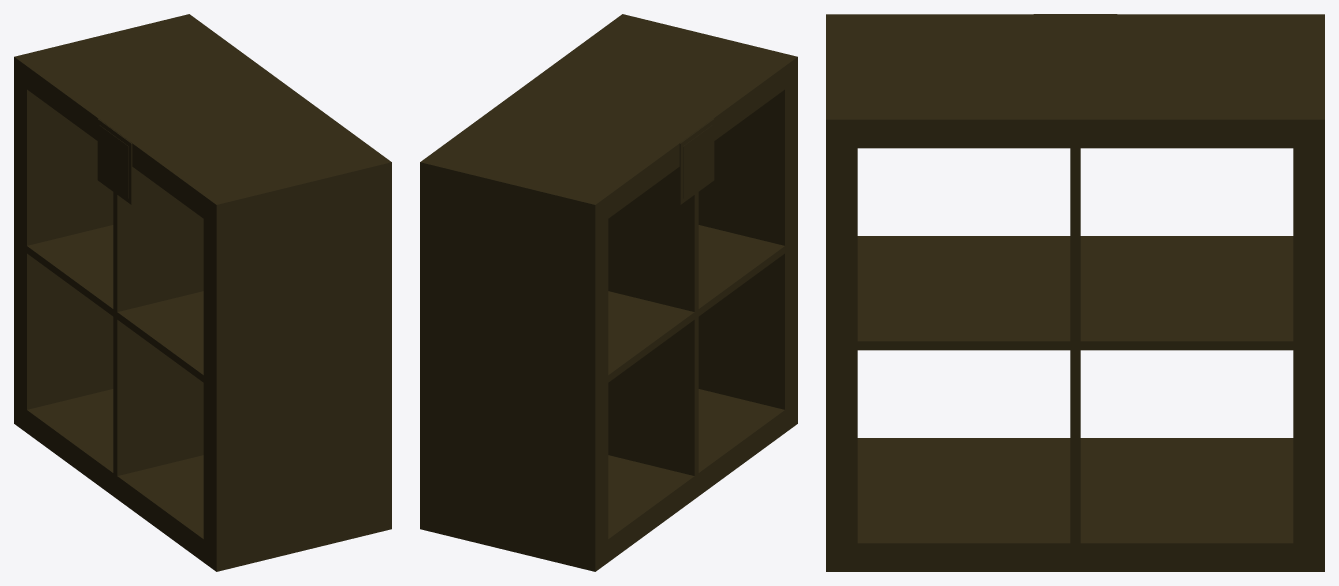
File: IKEA_shelf_dark.dae
3 views of the same model, side by side, from view 1: azimuth 30°, elevation 25°; view 2: azimuth 150°, elevation 25°; view 3: azimuth 270°, elevation 25° (orthographic). The views are drawn at different scales.
Visible parts, largest first — view 1: IKEAShelf_mesh_002; view 2: IKEAShelf_mesh_002; view 3: IKEAShelf_mesh_002.
Boxes of the visible parts, left/top/right/bottom form: IKEAShelf_mesh_002: left=14, top=14, right=391, bottom=571; IKEAShelf_mesh_002: left=420, top=14, right=797, bottom=571; IKEAShelf_mesh_002: left=826, top=14, right=1324, bottom=571.
Bounding box in the file's own units: 0.3977 × 0.79 × 0.79.
